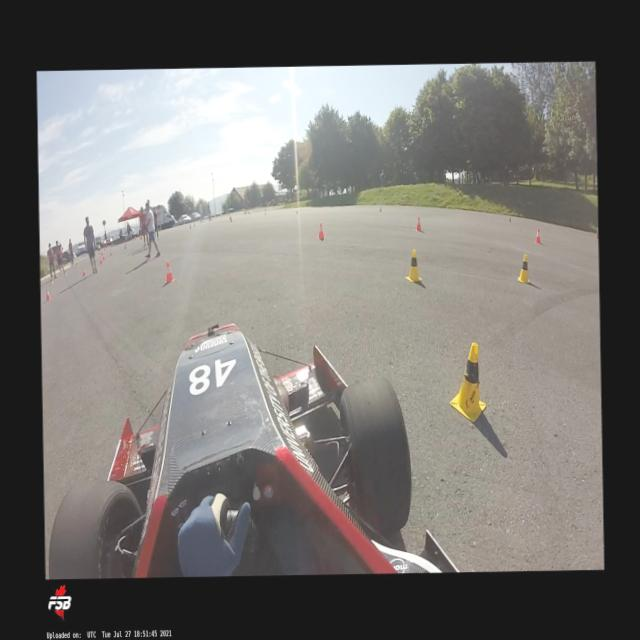orange_cone: (164, 260, 175, 283), (318, 222, 324, 240), (416, 215, 422, 231), (535, 228, 540, 244), (46, 288, 50, 300), (82, 266, 86, 276), (102, 252, 105, 260), (100, 256, 103, 264), (124, 243, 126, 249), (110, 250, 112, 254)
yellow_cone: (448, 342, 486, 422), (404, 248, 422, 282), (517, 253, 529, 283), (50, 276, 54, 284), (76, 261, 78, 267), (64, 270, 66, 276)
